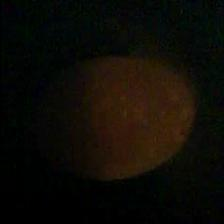fertile: (41, 54, 197, 182)
